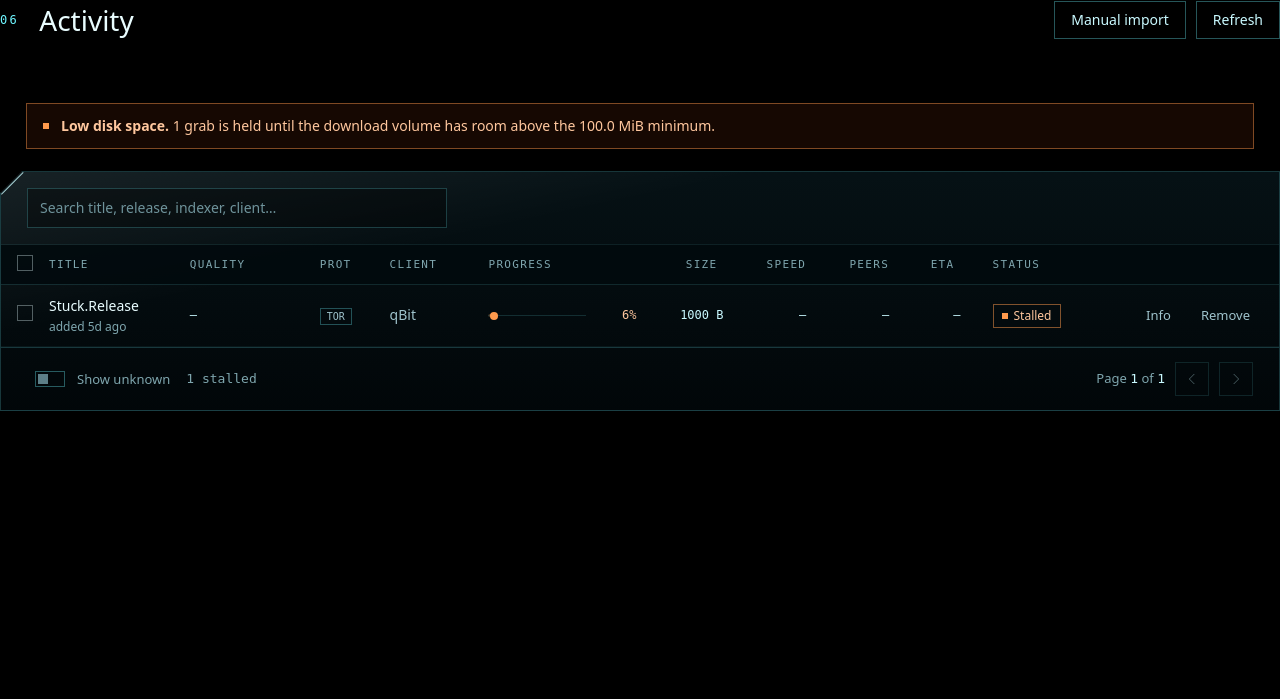
Test: queue page recovery actions › re-announces and replaces from the expanded row, after confirming
The image size is (1280, 699).
What coordinates should you click on to do the following:
click the button with aria-label "Show details of Stuck.Release"
I would click on:
 (1158, 316)
Its box is x1=1133 y1=300 x2=1184 y2=332.
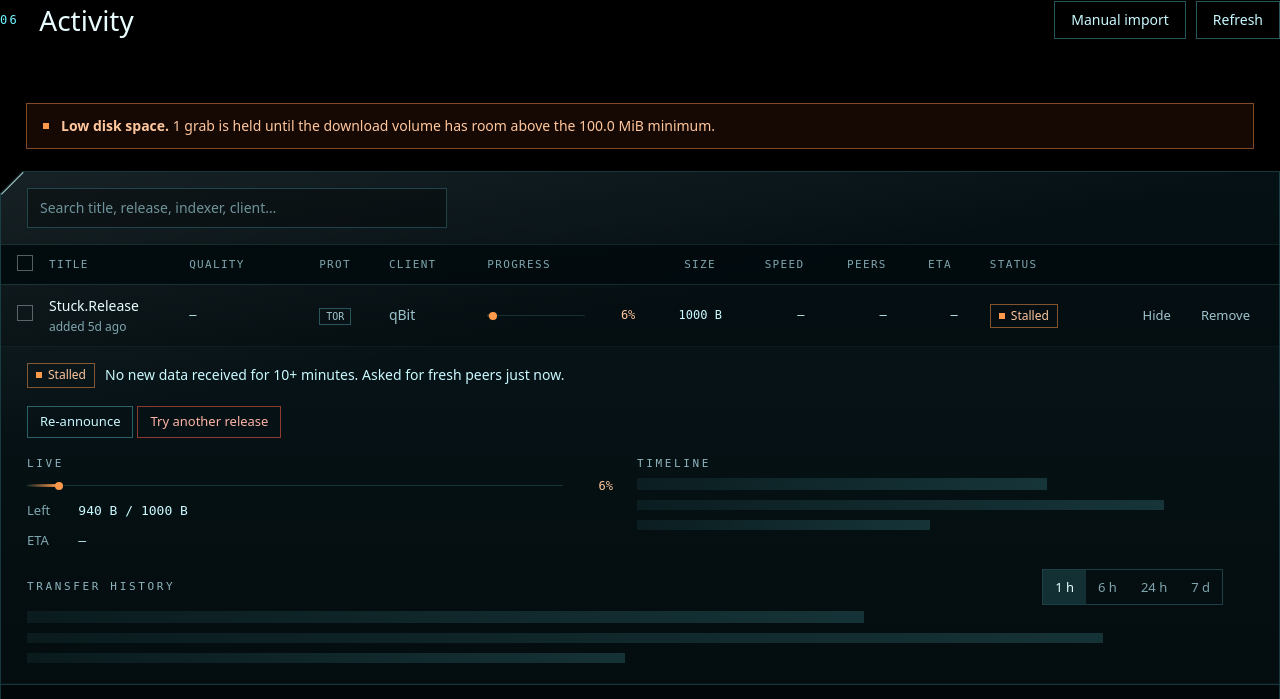
What coordinates should you click on to do the following:
click the button with aria-label "Ask for fresh peers for Stuck.Release"
I would click on:
 (80, 422)
Its box is x1=27 y1=406 x2=134 y2=438.
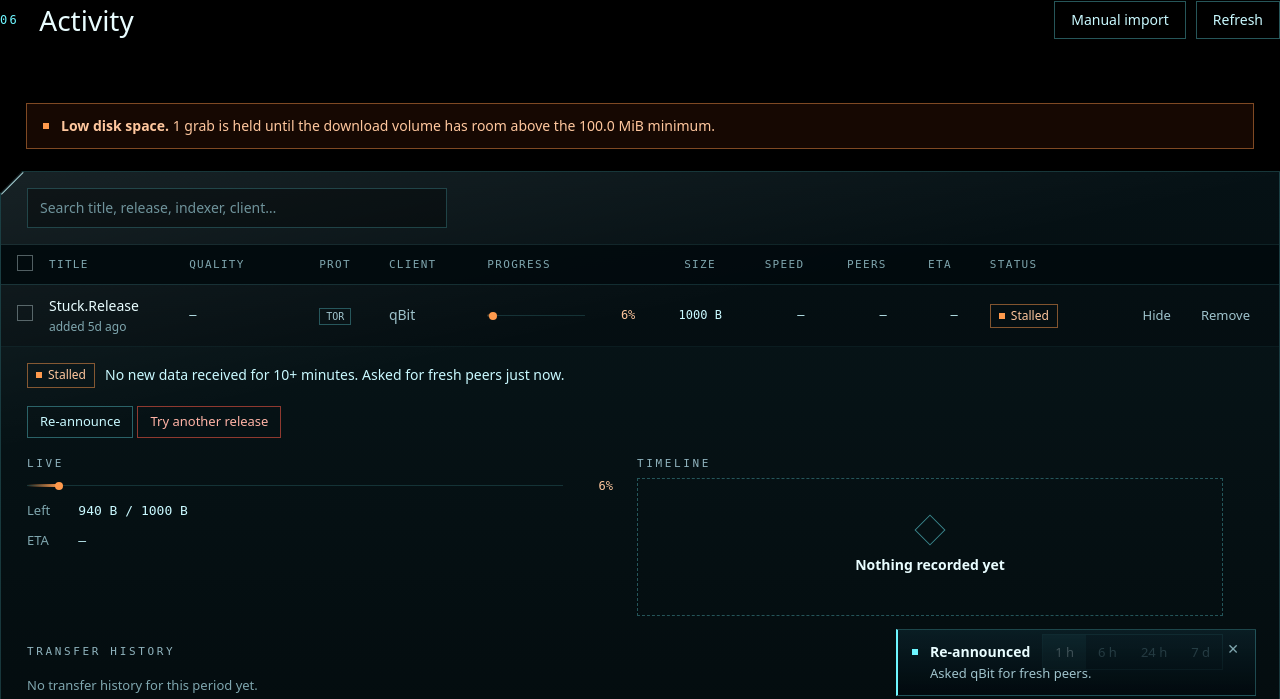
What coordinates should you click on to do the following:
click the button with aria-label "Try another release instead of Stuck.Release"
I would click on:
 (209, 422)
Its box is x1=138 y1=406 x2=281 y2=438.
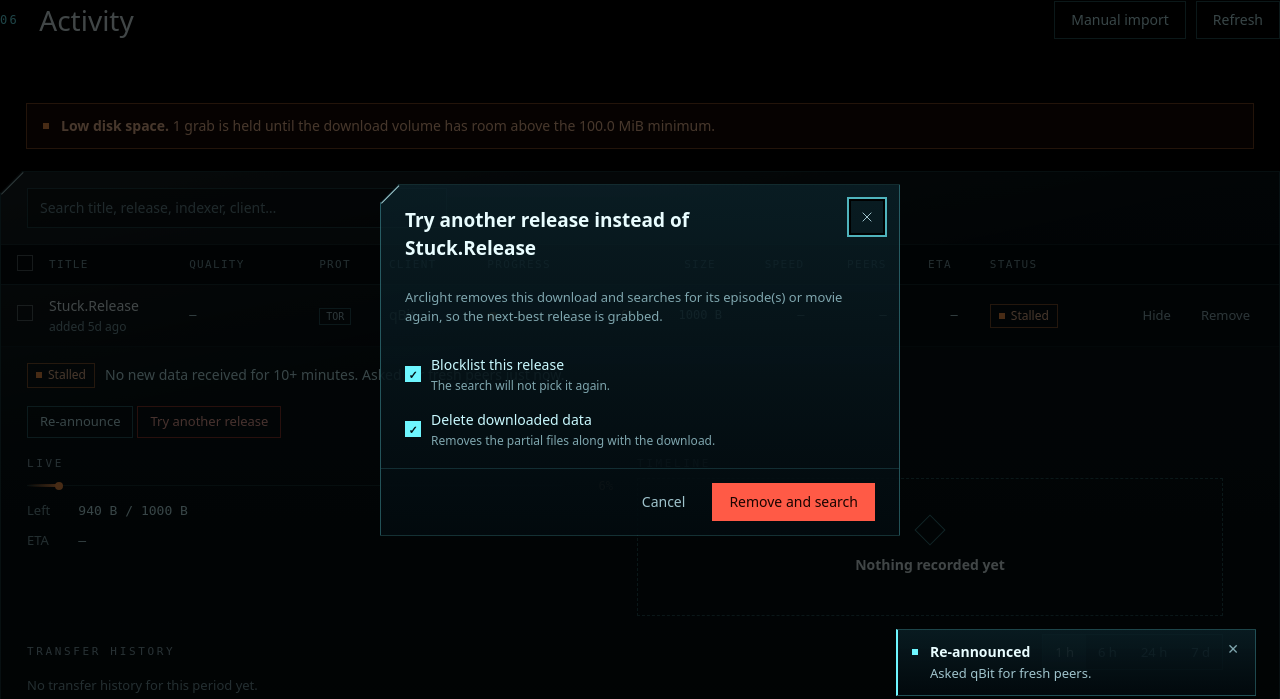
Check: the checkbox labelled "Delete downloaded data" is checked
What coordinates should you click on to do the following:
click the checkbox labelled "Delete downloaded data"
I would click on:
 (413, 429)
Its box is x1=405 y1=421 x2=421 y2=437.
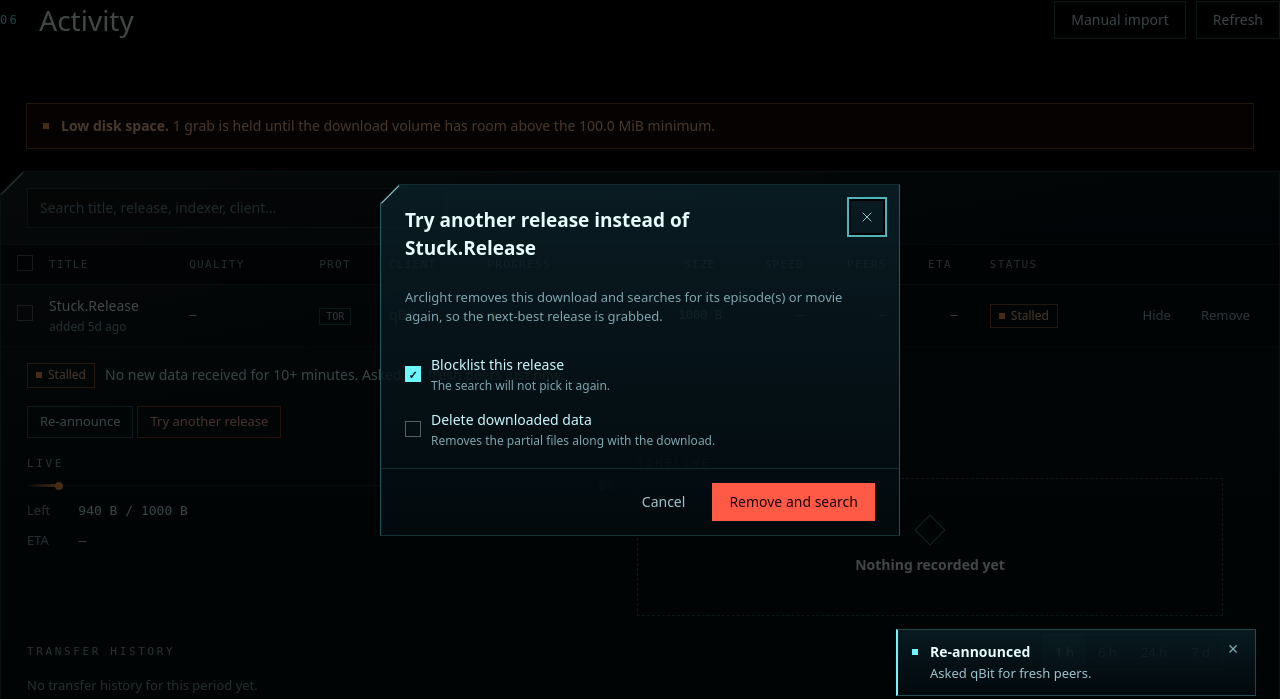
What coordinates should you click on to do the following:
click the button "Remove and search"
I would click on:
 (794, 502)
Its box is x1=712 y1=482 x2=875 y2=520.
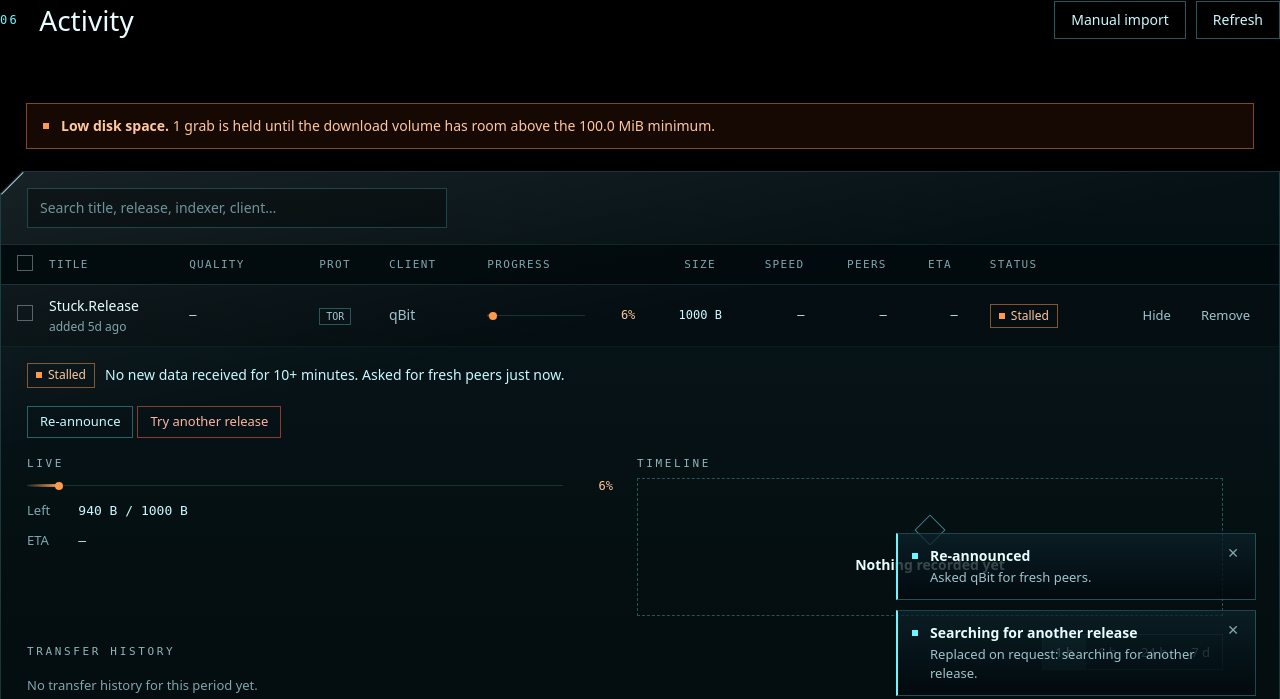
Check: the dialog is gone
